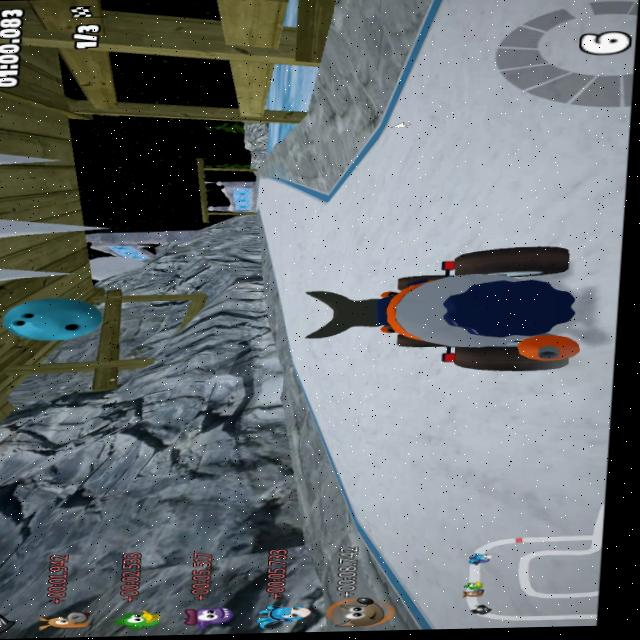player_kart: (303, 243, 583, 381)
track: (366, 372, 607, 532), (429, 0, 640, 121), (333, 175, 627, 249), (430, 528, 600, 624), (361, 120, 628, 176), (318, 377, 382, 463), (272, 195, 326, 290), (263, 182, 295, 244), (279, 286, 310, 339), (400, 526, 431, 579), (251, 177, 279, 214)
